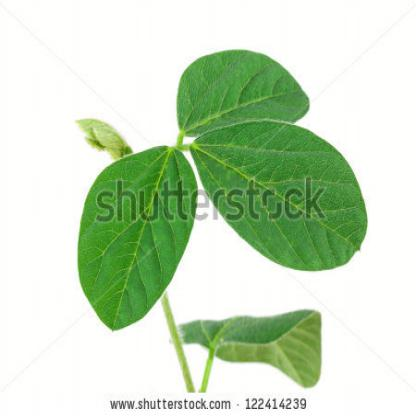Soybean leaf: (181, 116, 371, 273), (70, 143, 199, 339), (173, 46, 313, 143)
